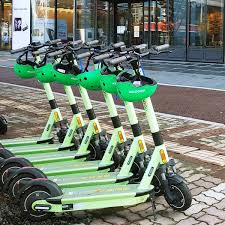kick_body: (67, 188, 152, 205)
kick_handler: (110, 43, 172, 64)
kick_neck: (135, 71, 174, 161)
kick_wheel: (20, 181, 56, 220), (162, 176, 191, 211)
